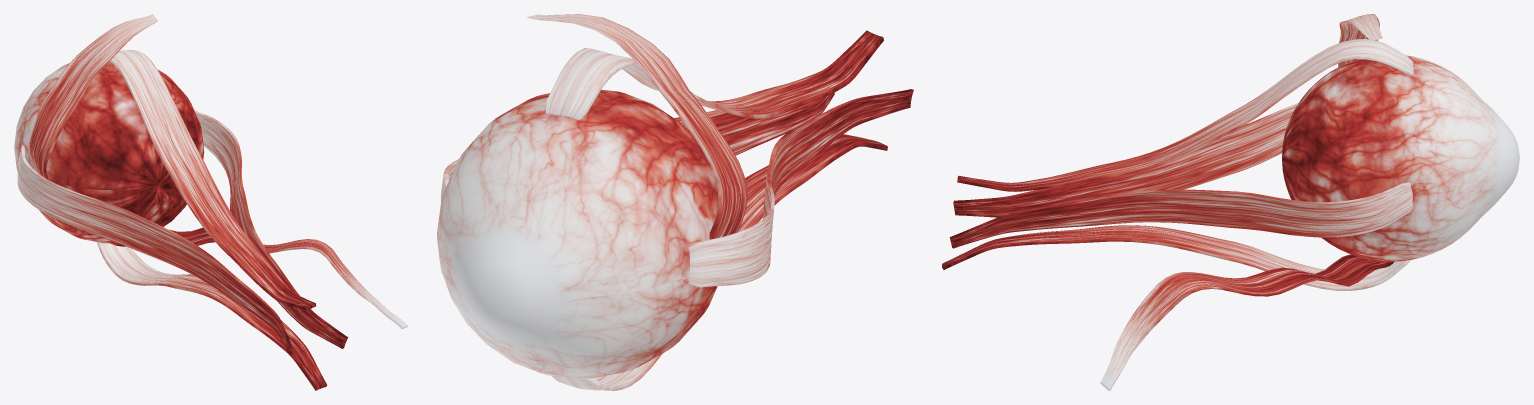
The model's file is Outer layer.glb.
3 renders of one model, left to right at view 1: azimuth 30°, elevation 25°; view 2: azimuth 150°, elevation 25°; view 3: azimuth 270°, elevation 25°, orthographic. The views are drawn at different scales.
Parts seen in each view (by area): view 1: Sclera.003, Plane, Plane.002, Plane.005, Plane.001, Plane.003, Plane.004; view 2: Sclera.003, Plane.002, Plane, Plane.005, Plane.001, Plane.003; view 3: Sclera.003, Plane.003, Plane.002, Plane, Plane.004, Plane.001, Plane.005.
Part boxes in pixels (x1,y1,x2,y2): Sclera.003: (14, 61, 204, 243); Plane: (110, 50, 315, 310); Plane.002: (17, 145, 292, 354); Plane.005: (29, 14, 157, 179); Plane.001: (96, 242, 326, 390); Plane.003: (194, 110, 347, 348); Plane.004: (110, 227, 408, 329); Sclera.003: (437, 89, 718, 378); Plane.002: (688, 89, 913, 287); Plane: (545, 30, 883, 120); Plane.005: (527, 14, 747, 239); Plane.001: (551, 134, 887, 390); Plane.003: (441, 92, 834, 201); Sclera.003: (1282, 55, 1519, 261); Plane.003: (949, 182, 1413, 248); Plane.002: (953, 103, 1298, 217); Plane: (957, 39, 1413, 191); Plane.004: (1100, 254, 1394, 390); Plane.001: (942, 225, 1410, 290); Plane.005: (1338, 14, 1382, 66).
Bounding box in the file's own units: 8.32 × 7.58 × 13.95.
Materials: 2 (2 with a texture image).
